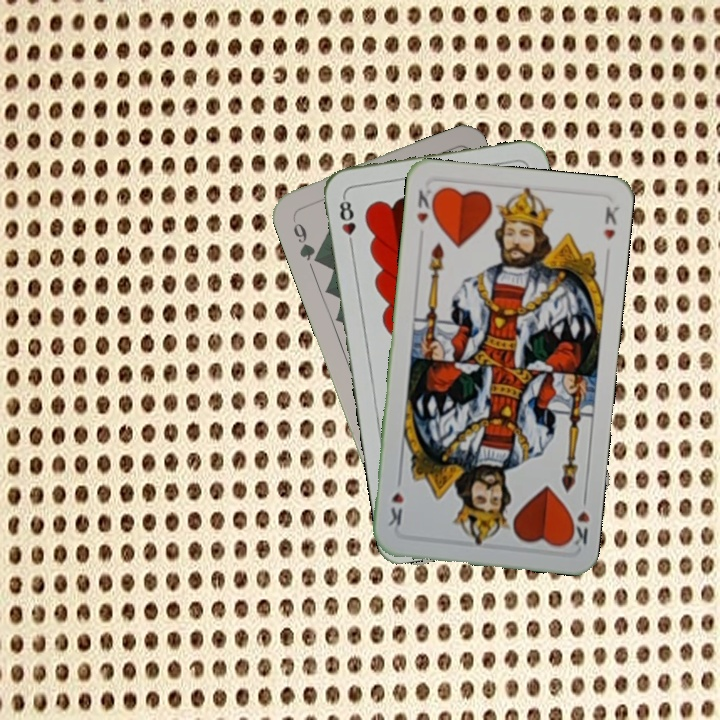G9: (288, 212, 324, 266)
H8: (335, 192, 358, 251)
HK: (564, 490, 592, 548), (412, 186, 439, 226)
